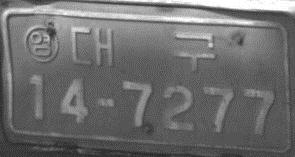-: (93, 90, 117, 115)
1: (24, 72, 52, 120)
2: (162, 82, 195, 131)
4: (58, 76, 88, 124)
7: (243, 87, 276, 136), (203, 85, 234, 133), (122, 80, 152, 127)
대구_D: (69, 24, 215, 72)
영: (24, 23, 59, 63)
